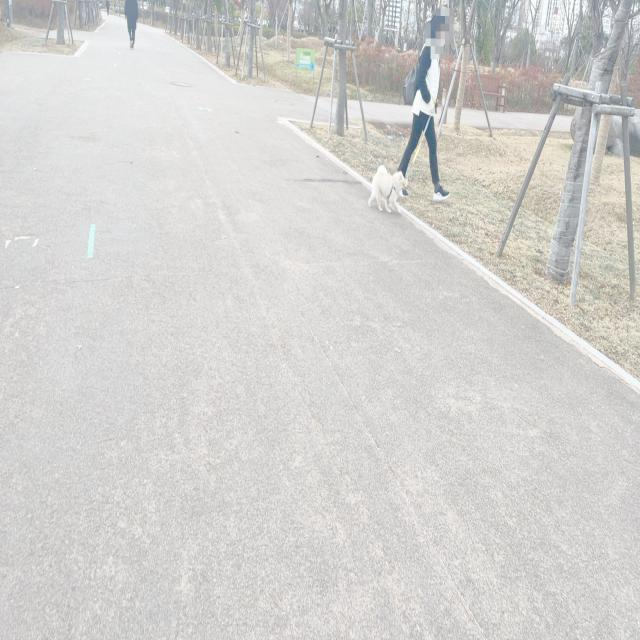Leashed_Dog: (368, 94, 439, 215)
